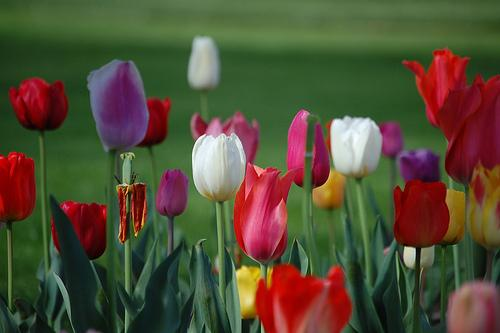tulip: (255, 264, 353, 333), (234, 161, 293, 262), (394, 177, 451, 247), (193, 133, 245, 200), (50, 200, 108, 260), (9, 77, 67, 132), (331, 115, 382, 175), (0, 152, 38, 223), (156, 167, 188, 216)
